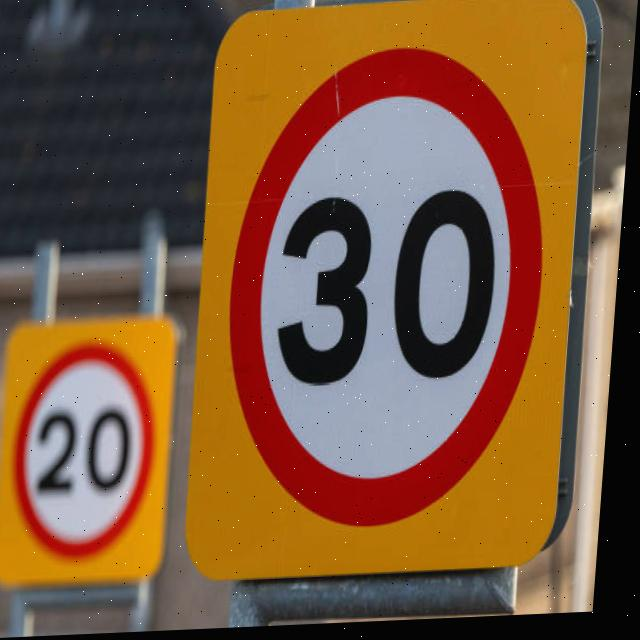Speed limit 30: (218, 40, 563, 545)
